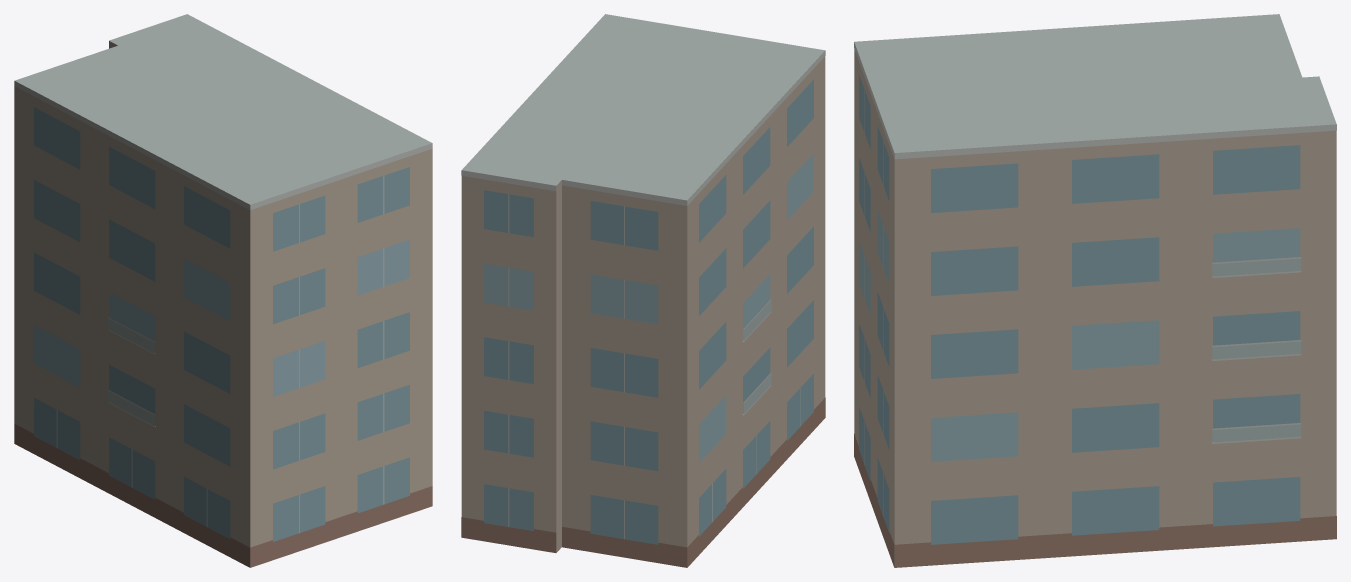
File: survey-upis-32863863.glb
The picture shows the model from 3 angles, left to right: view 1: azimuth 30°, elevation 25°; view 2: azimuth 150°, elevation 25°; view 3: azimuth 270°, elevation 25°; orthographic projection. The views are drawn at different scales.
Visible parts, largest first — view 1: survey-upis-32863863.tmp; view 2: survey-upis-32863863.tmp; view 3: survey-upis-32863863.tmp.
Part boxes in pixels (left/top/right/bottom): survey-upis-32863863.tmp: left=14, top=14, right=432, bottom=567; survey-upis-32863863.tmp: left=461, top=14, right=825, bottom=567; survey-upis-32863863.tmp: left=854, top=14, right=1336, bottom=567.
Size of the model in its own units: 11.74 by 16.3 by 17.2.
